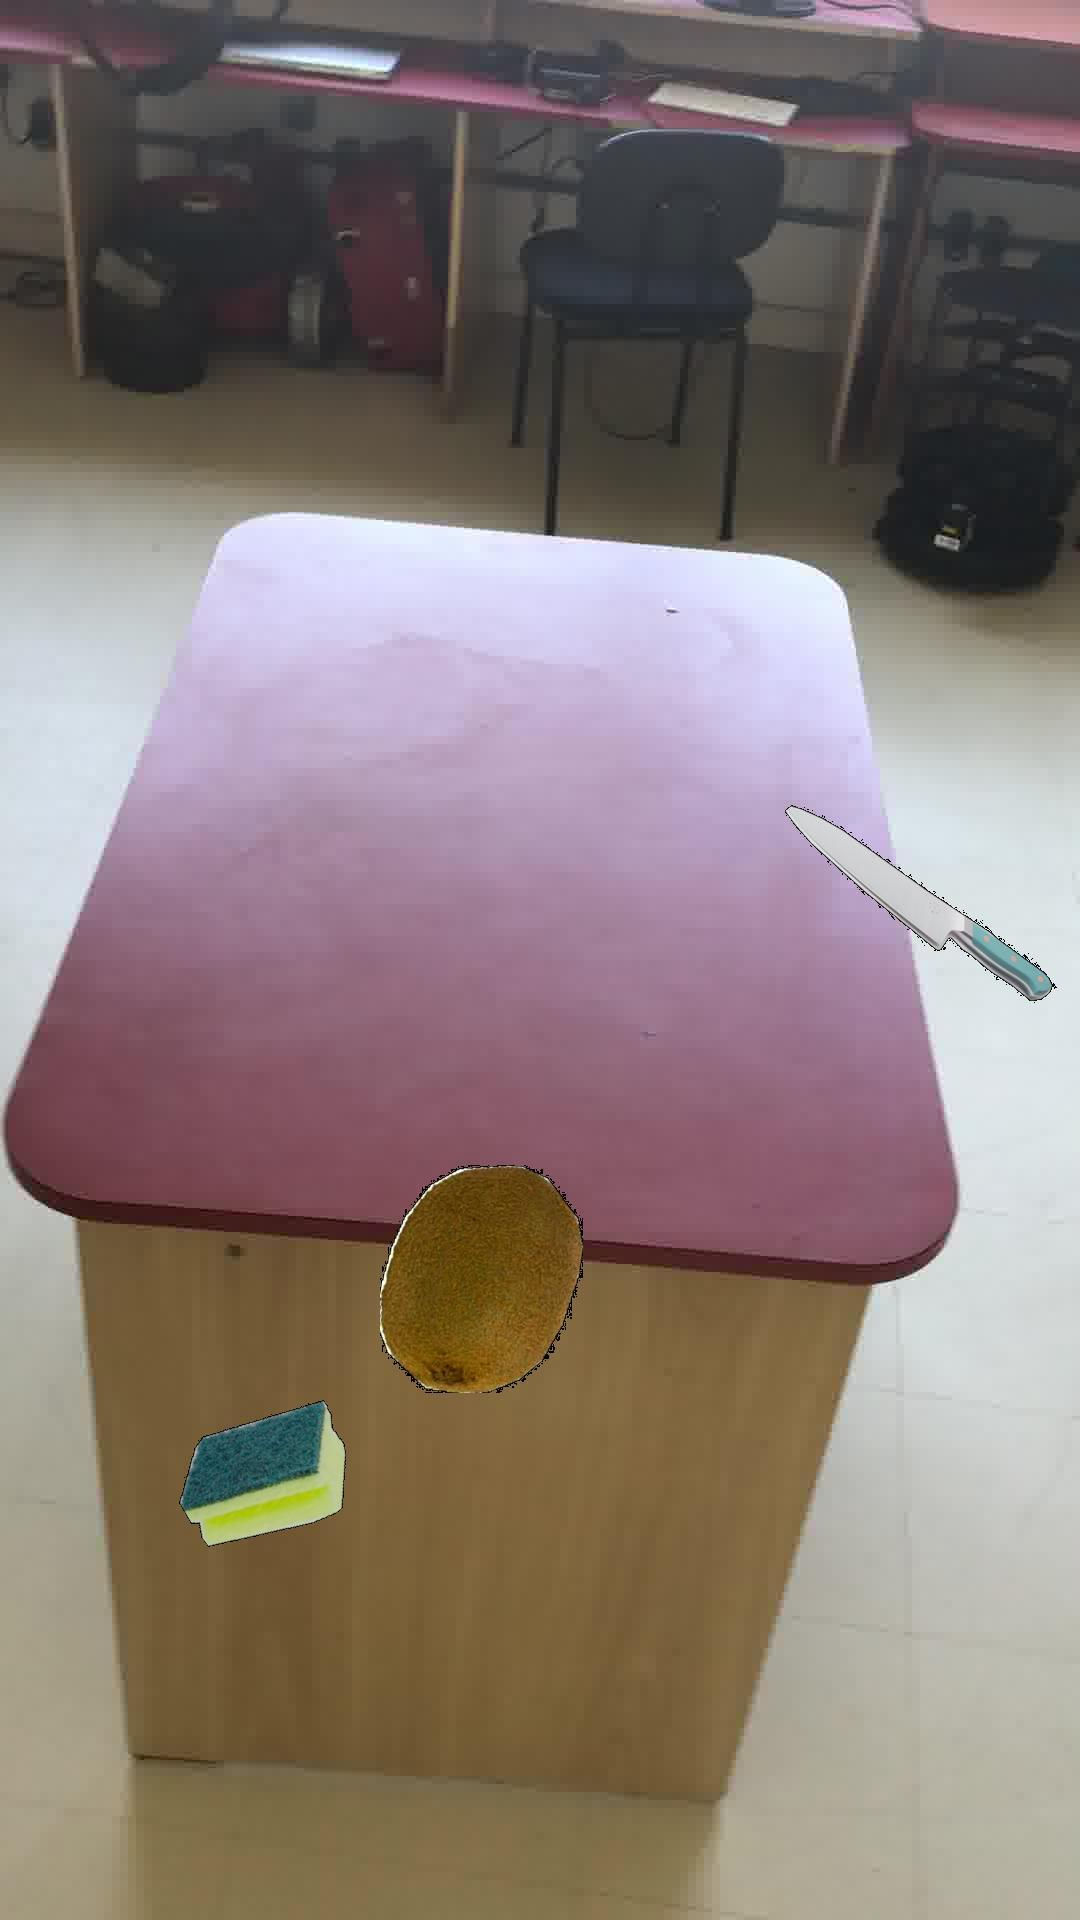kiwi: (378, 1163, 582, 1391)
knife: (783, 803, 1054, 1000)
sponge: (178, 1399, 344, 1545)
